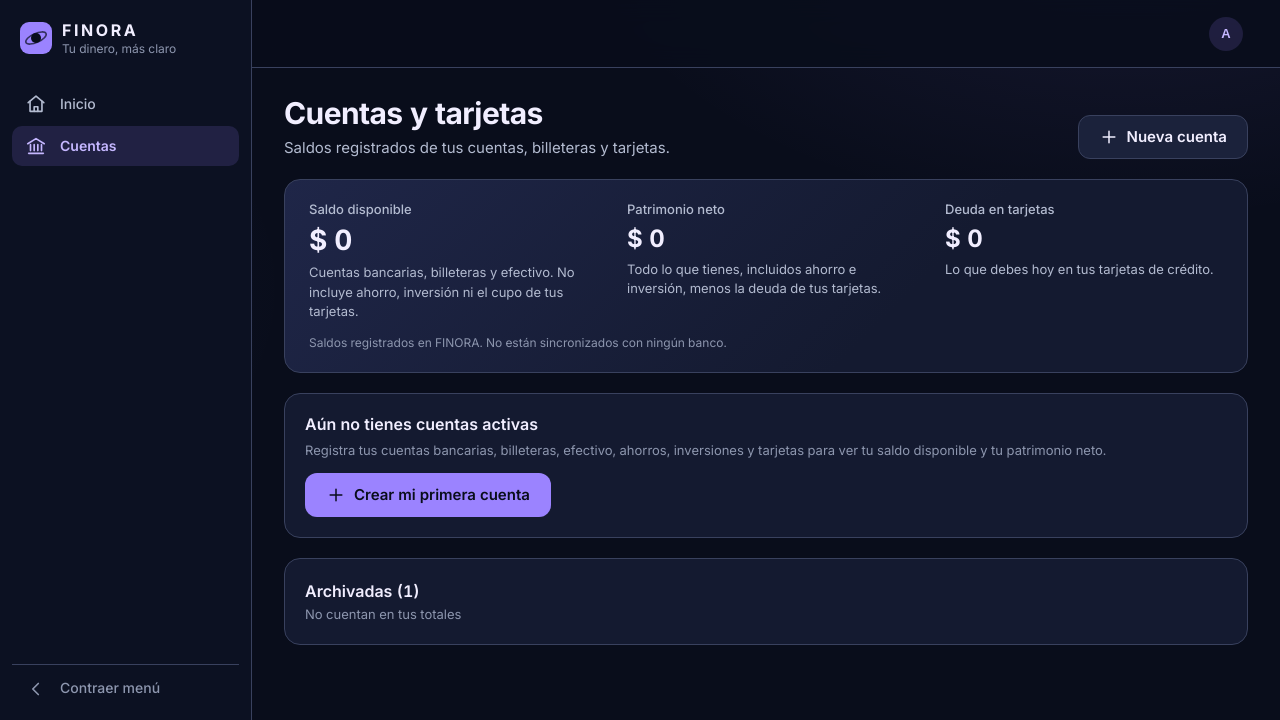
Test case: eliminar (CA-ACC-05) › VAL-ACC-08 en una archivada: solo informa
The width and height of the screenshot is (1280, 720).
Click the heading "Archivadas (1) No cuentan en tus totales": (383, 601) [305,581,461,622]
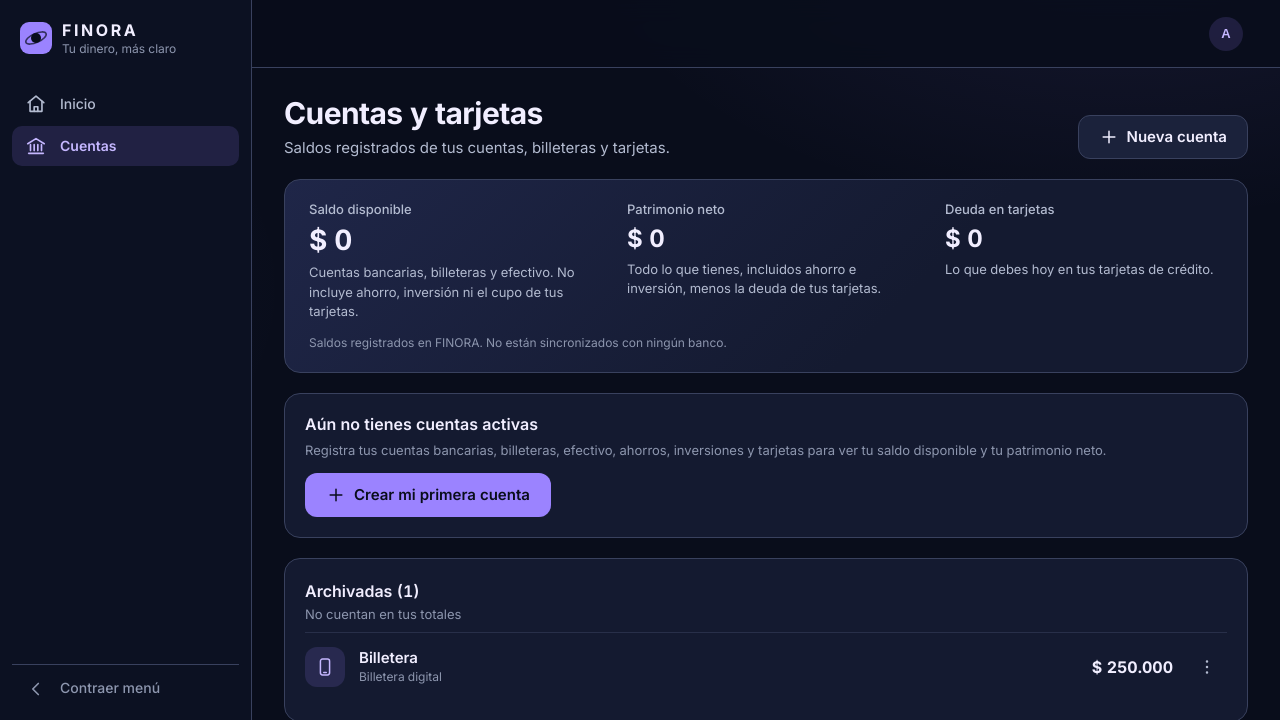
Click the button named "Acciones de Billetera": (1207, 667) [1187,647,1227,687]
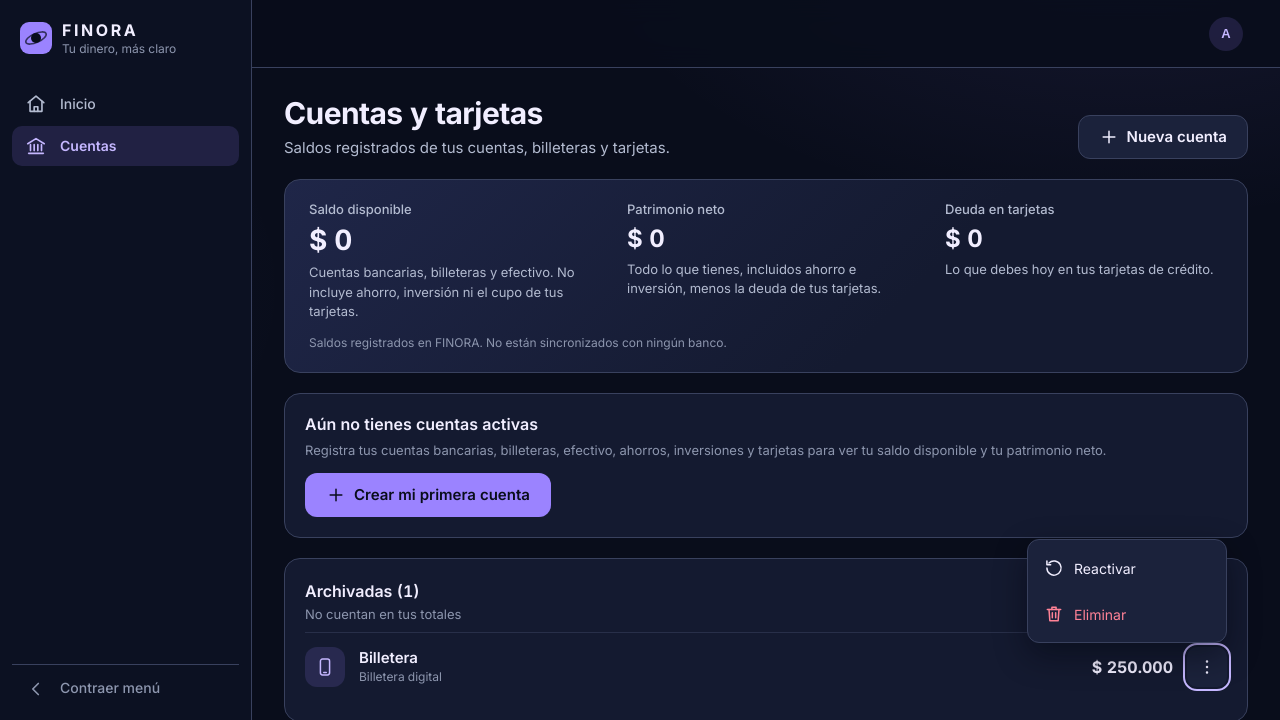
Click the button "Eliminar": (1127, 614) [1034,592,1220,636]
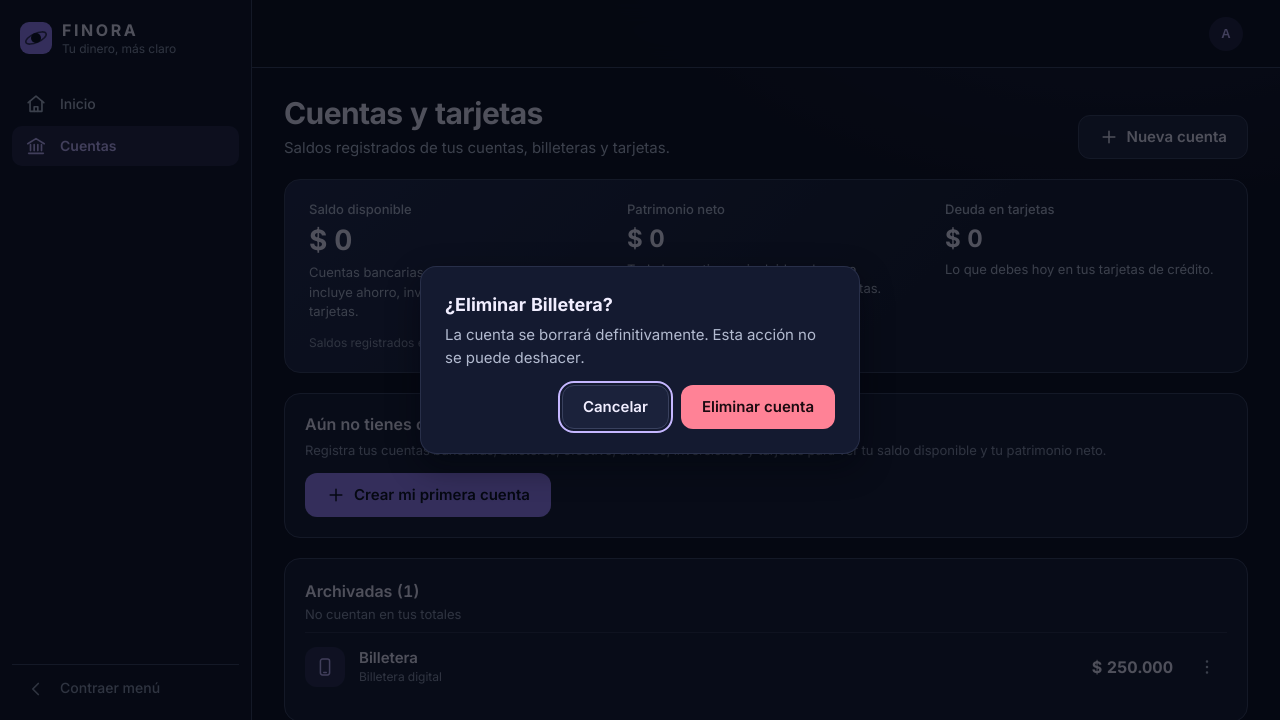
Click the button "Eliminar cuenta": (758, 407) [681,385,835,429]
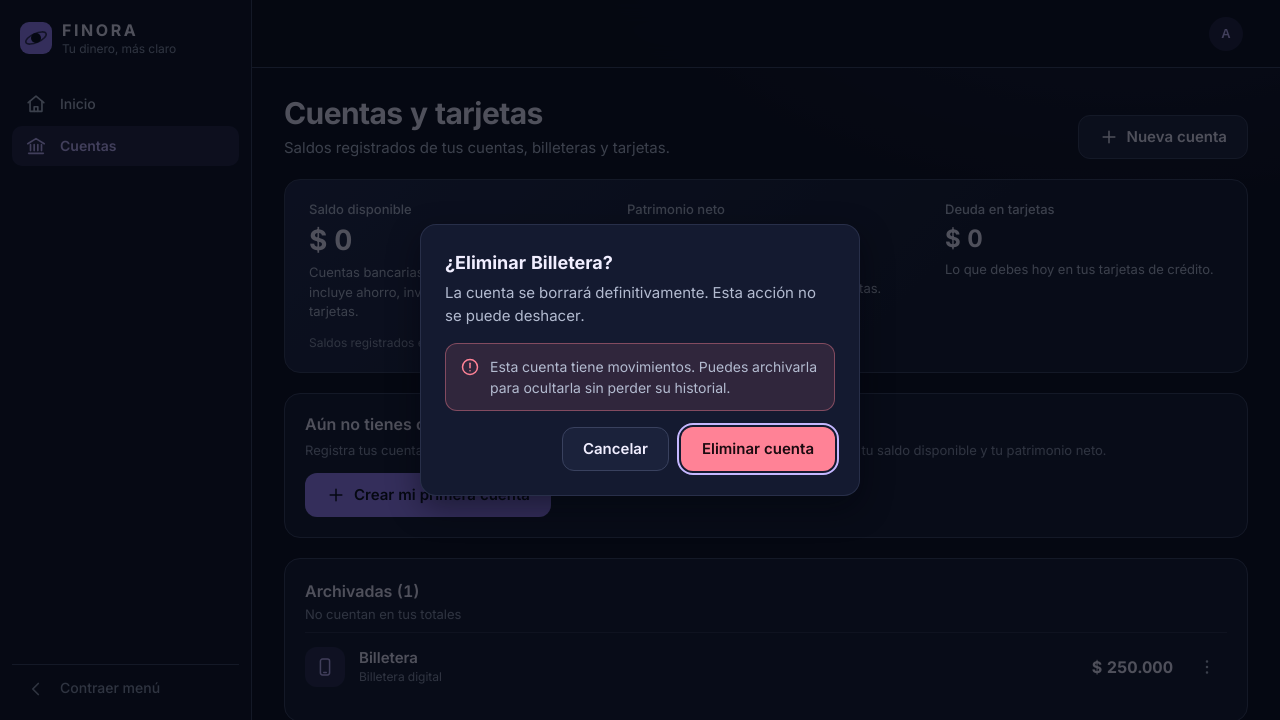
Now the message shows "Esta cuenta tiene movimientos.", box [490,358,817,396]
